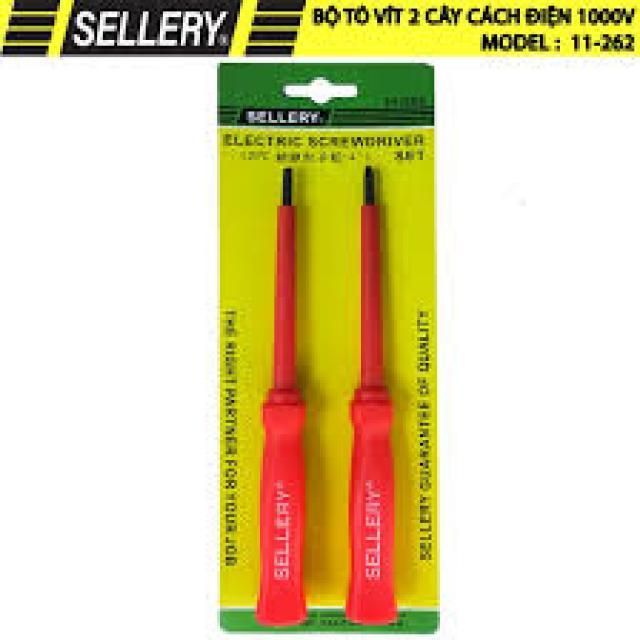screwdriver: (343, 162, 403, 624), (253, 162, 310, 627)
